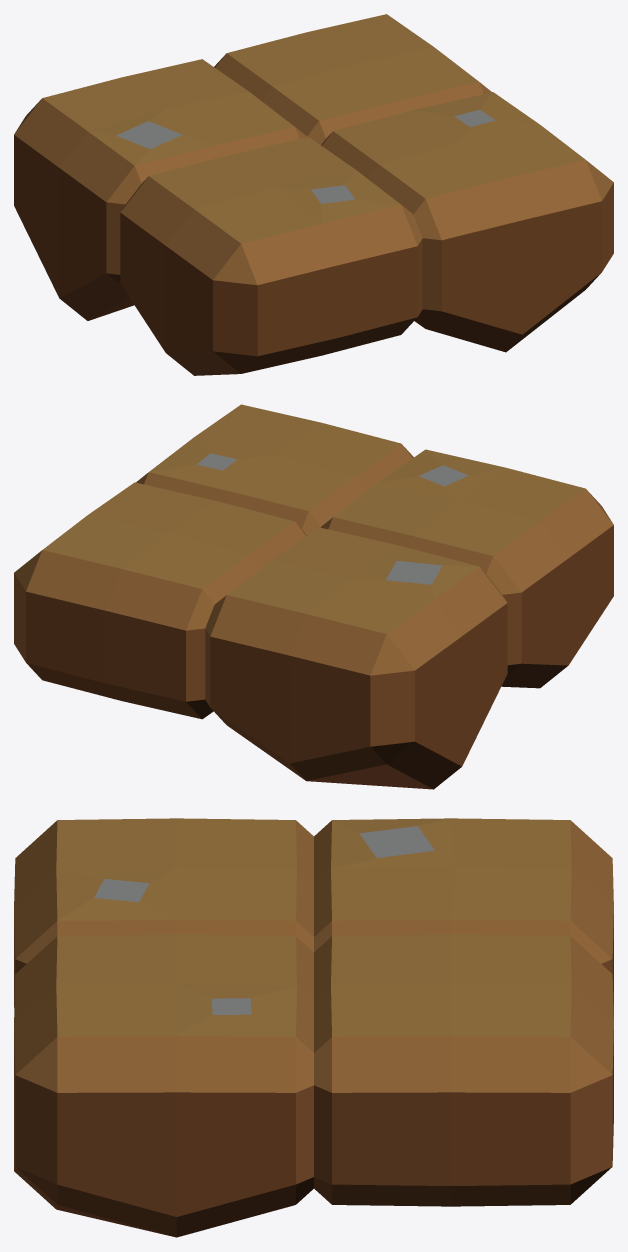
Rendered from m_kub_dirt_floorFour.FBX.
The picture shows the model from 3 angles, top to bottom: view 1: azimuth 30°, elevation 25°; view 2: azimuth 150°, elevation 25°; view 3: azimuth 270°, elevation 25°; orthographic projection. The views are drawn at different scales.
Parts seen in each view (by area): view 1: m_kub_dirt_floorFour; view 2: m_kub_dirt_floorFour; view 3: m_kub_dirt_floorFour.
Part boxes in pixels (<box>): m_kub_dirt_floorFour: <box>14,14,613,375</box>; m_kub_dirt_floorFour: <box>14,404,613,789</box>; m_kub_dirt_floorFour: <box>14,818,613,1237</box>.
Size of the model in its own units: 2.18 by 0.9923 by 2.18.
